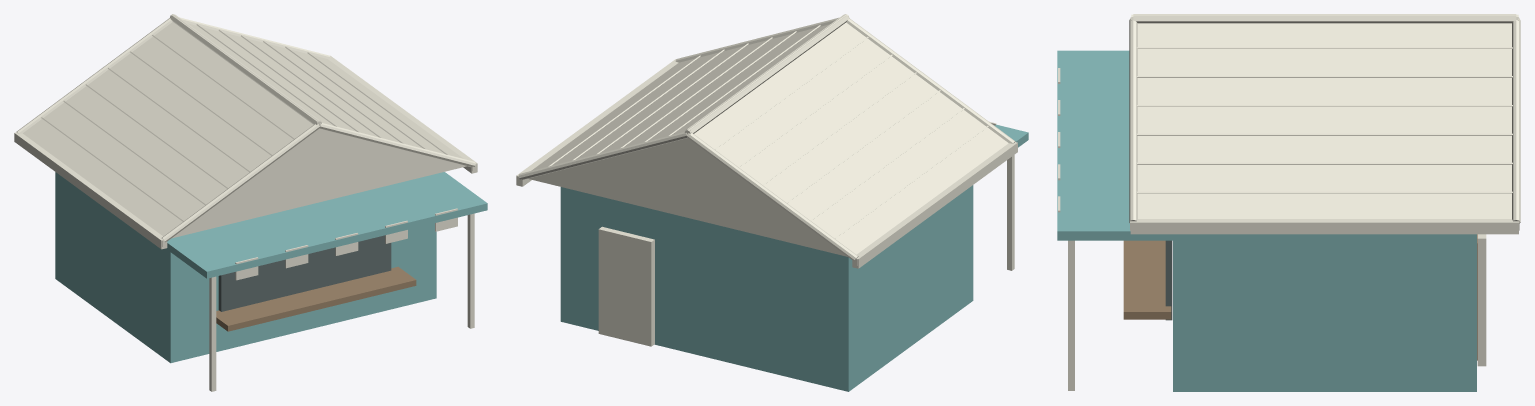
The picture shows the model from 3 angles, left to right: view 1: azimuth 30°, elevation 25°; view 2: azimuth 150°, elevation 25°; view 3: azimuth 270°, elevation 25°; orthographic projection. The views are drawn at different scales.
Bounding box in the file's own units: 8.56 × 5.72 × 8.22.
